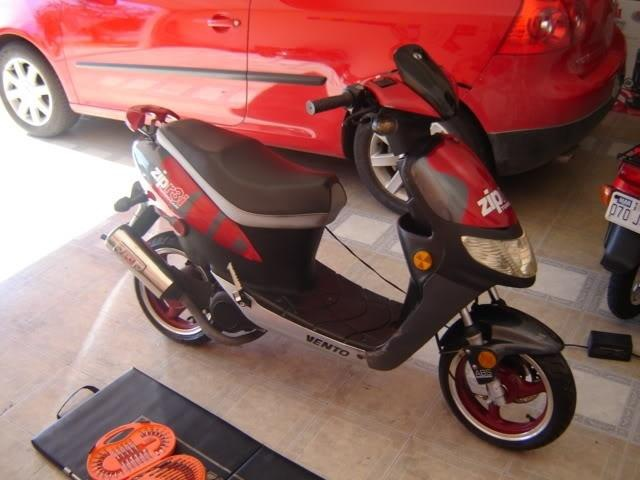non-vehicle: (101, 44, 576, 451), (598, 144, 639, 320)
